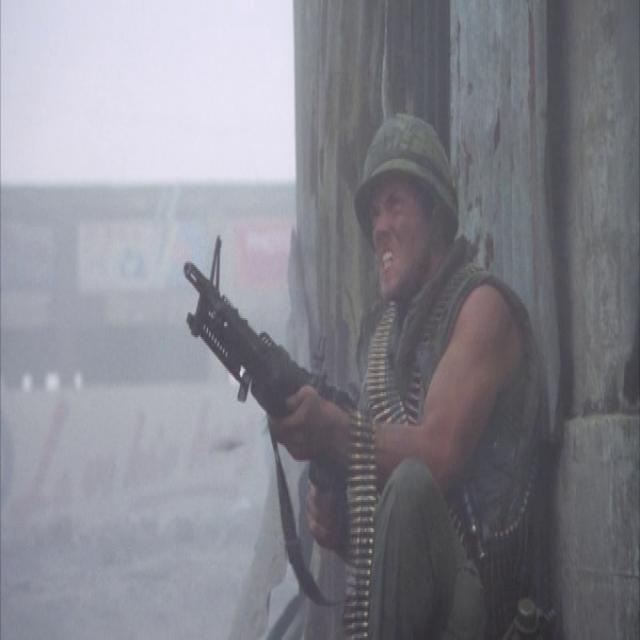rifle: (181, 231, 368, 551)
